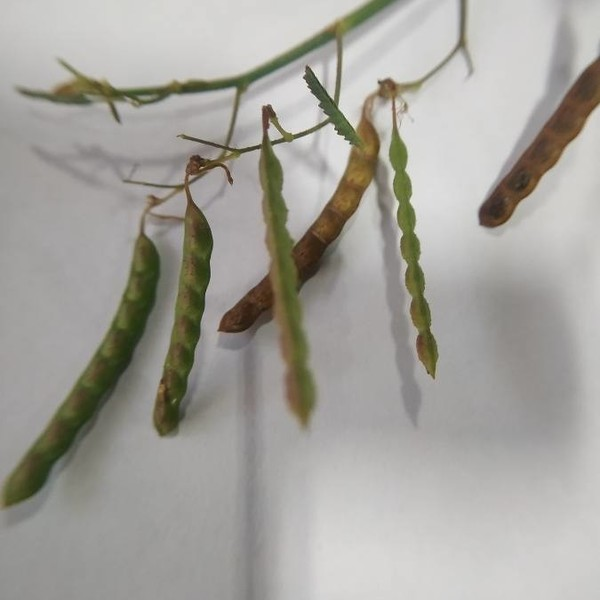obstacle: (30, 72, 483, 460)
